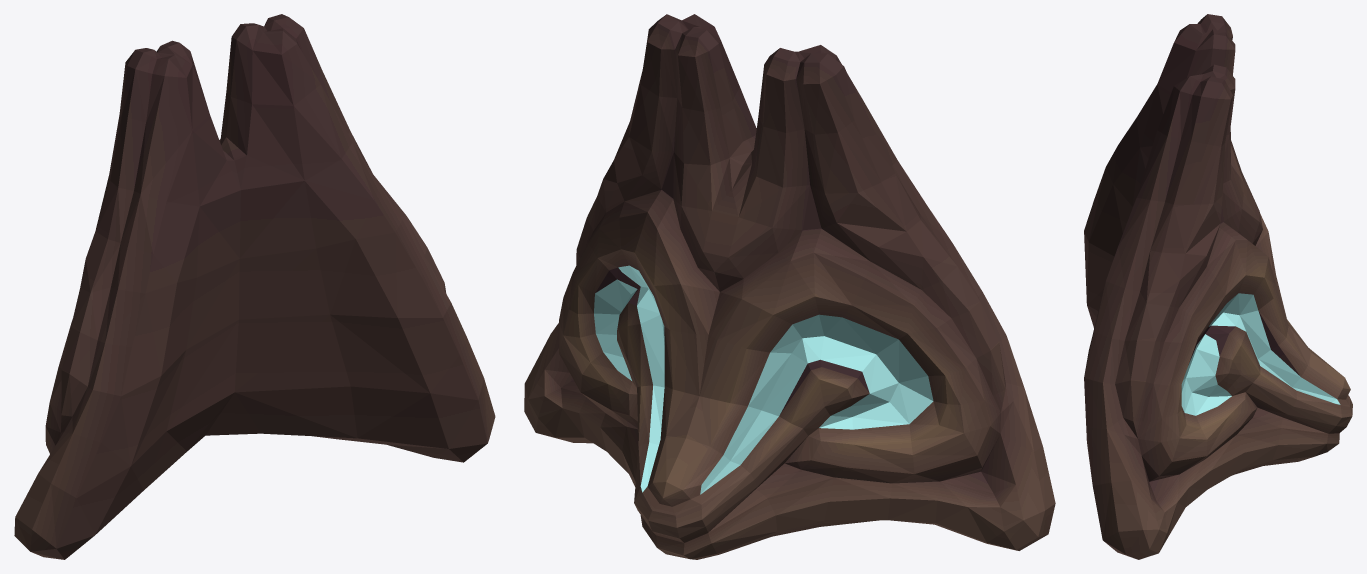
File: CharSkyKid_Mask_AP18Raccoon.glb
3 renders of one model, left to right at view 1: azimuth 30°, elevation 25°; view 2: azimuth 150°, elevation 25°; view 3: azimuth 270°, elevation 25°, orthographic. The views are drawn at different scales.
Visible parts, largest first — view 1: CharSkyKid_Mask_AP18Raccoon; view 2: CharSkyKid_Mask_AP18Raccoon; view 3: CharSkyKid_Mask_AP18Raccoon.
Boxes of the visible parts, left/top/right/bottom form: CharSkyKid_Mask_AP18Raccoon: left=14, top=14, right=495, bottom=559; CharSkyKid_Mask_AP18Raccoon: left=524, top=14, right=1055, bottom=559; CharSkyKid_Mask_AP18Raccoon: left=1084, top=14, right=1352, bottom=559.
Bounding box in the file's own units: 3.38 × 3.05 × 1.78.
1 material, 1 textured.
